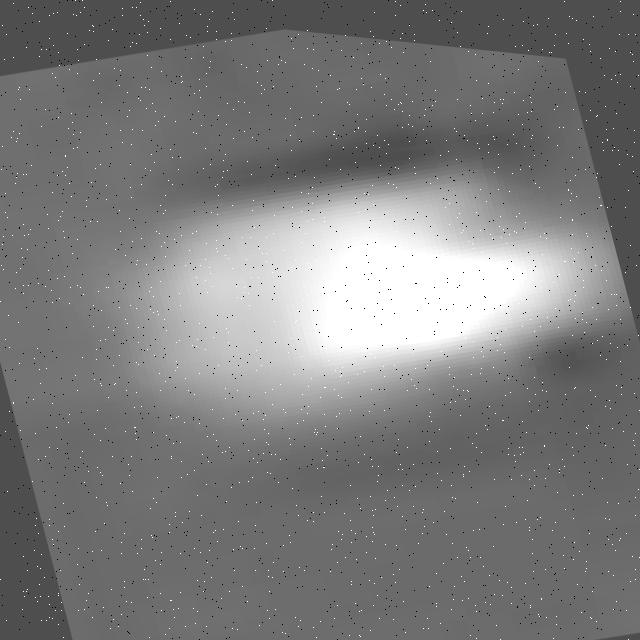person: (118, 80, 640, 493)
